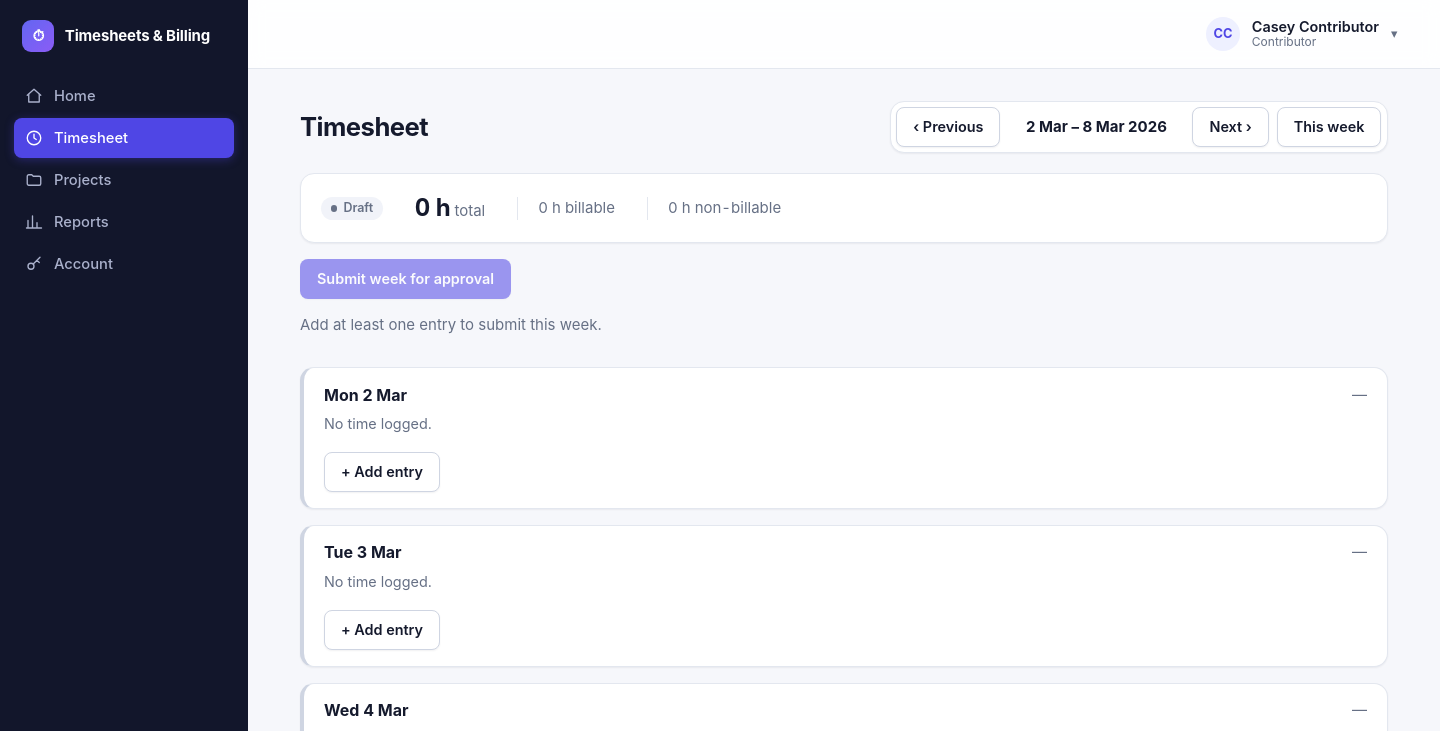
Test: timesheet: adding entries › lets the user mark an entry non-billable
Check: the heading "Timesheet" is shown, box x1=300 y1=108 x2=428 y2=146
Check: the text "total" is shown, box x1=450 y1=201 x2=485 y2=220
Click the button with aria-label "Add entry on Mon 2 Mar" at (382, 472), box x1=324 y1=452 x2=440 y2=492
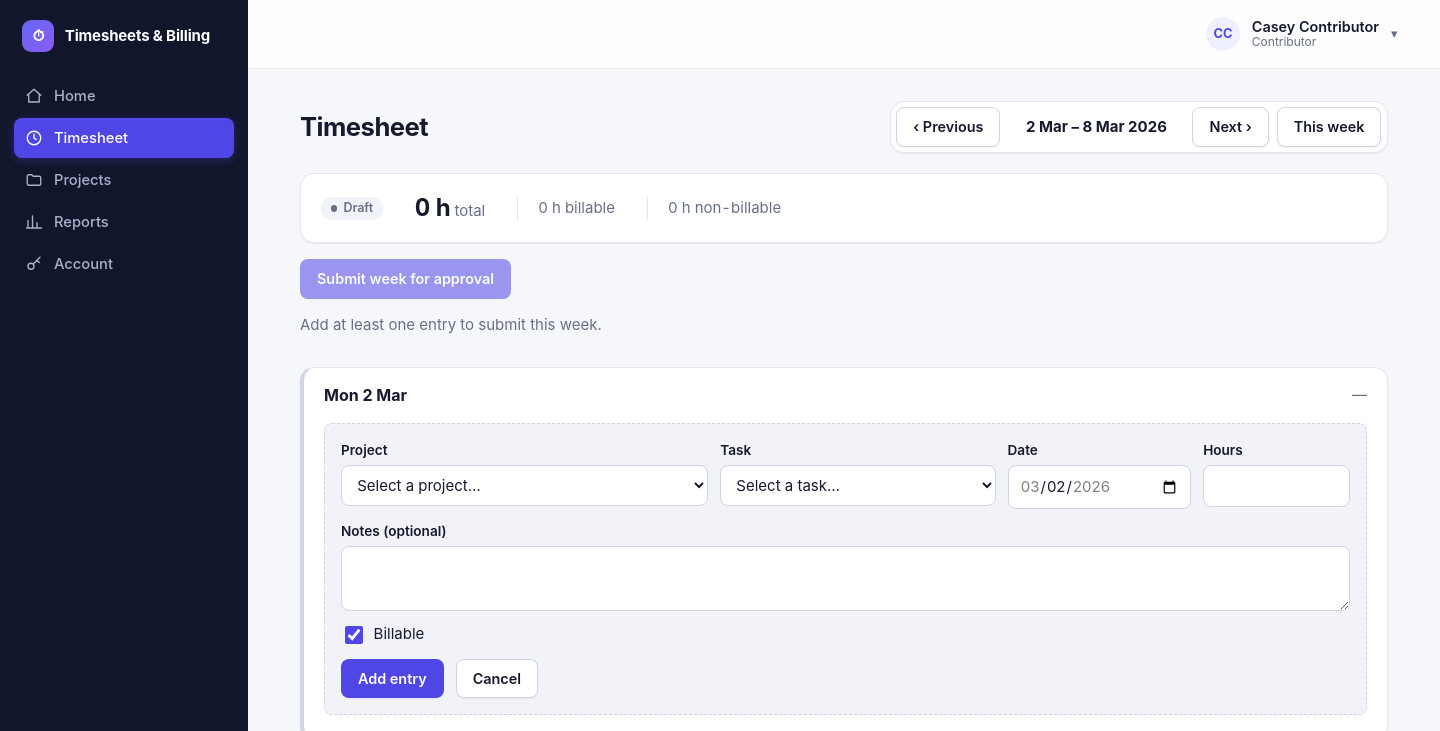
Select "BETA · Beta Portal" in the dropdown labelled "Project" at (525, 485), box x1=341 y1=465 x2=708 y2=506
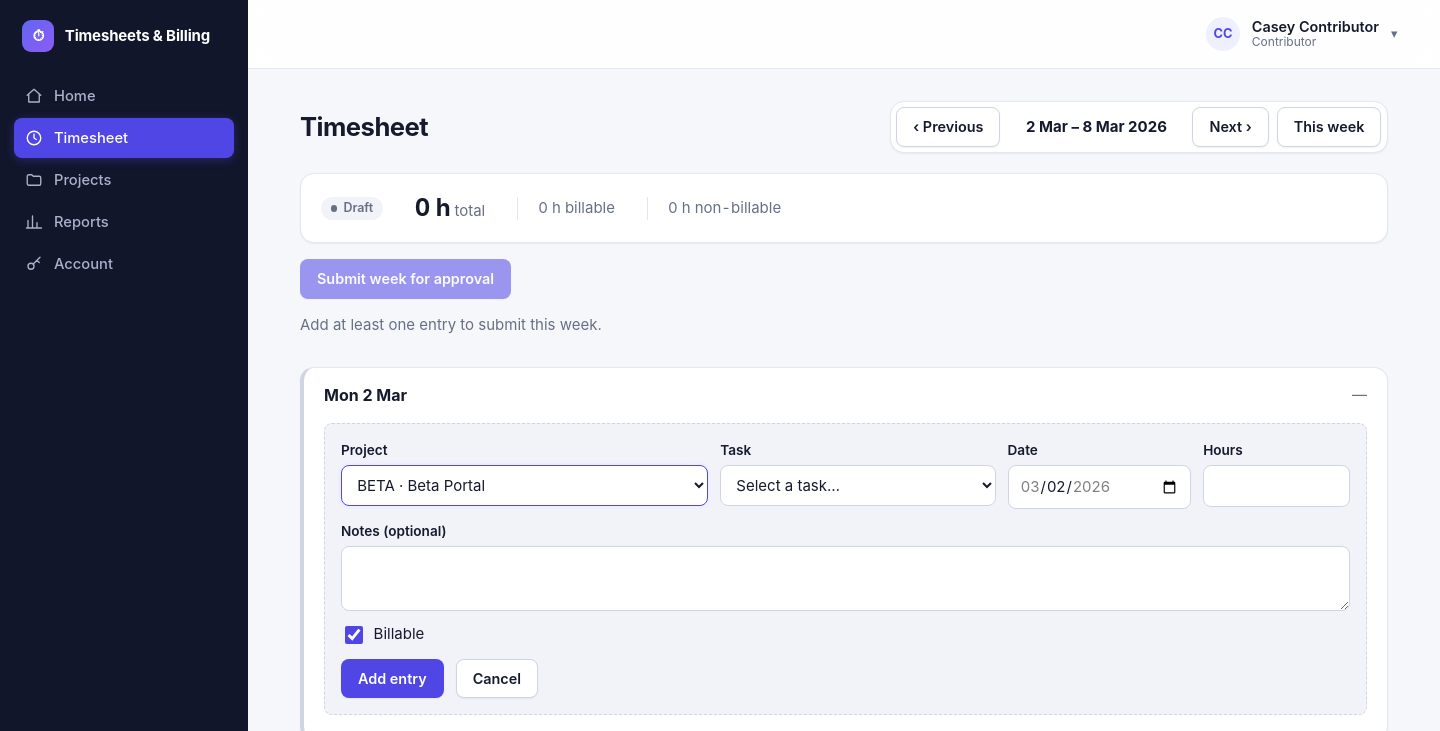
Select "Support" in the dropdown labelled "Task" at (858, 485), box x1=720 y1=465 x2=996 y2=506
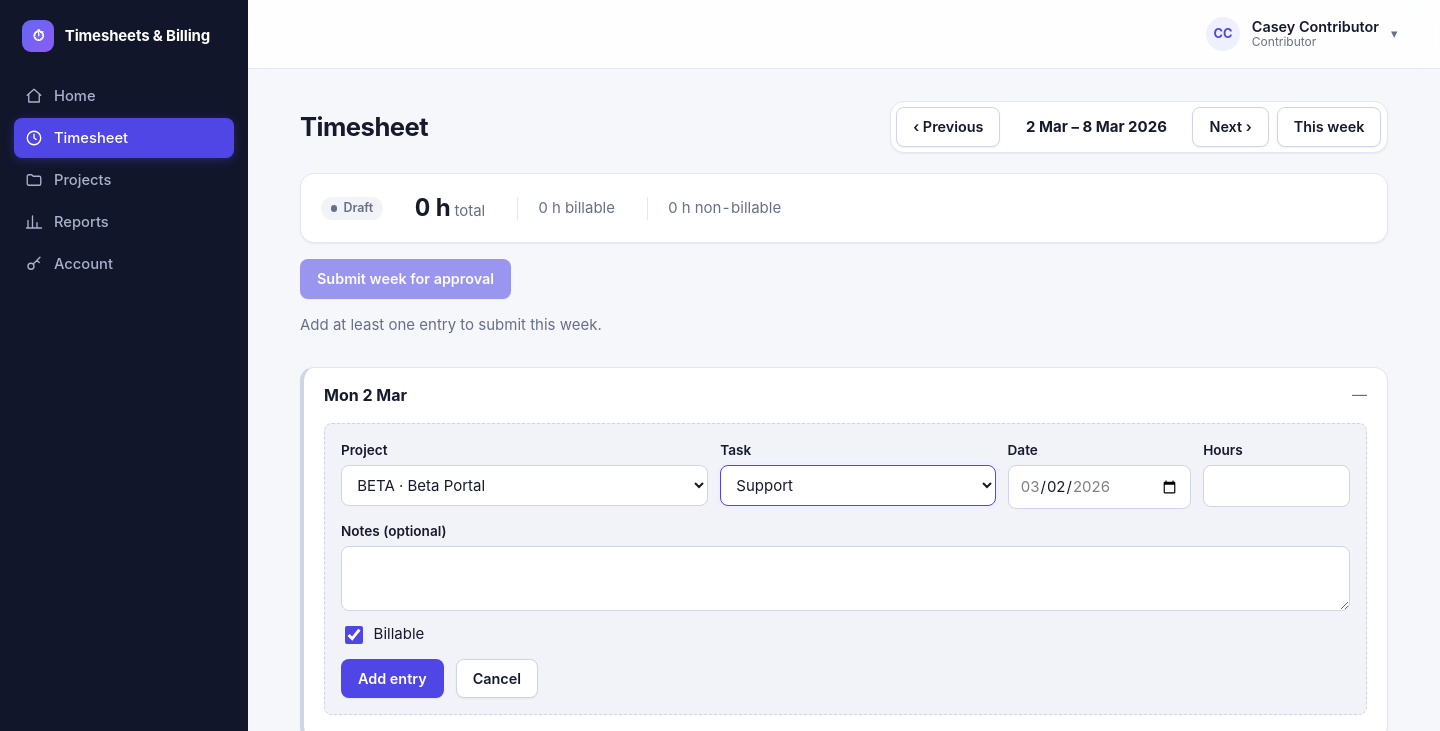
Check: the date field labelled "Date" holds "2026-03-02", box x1=1008 y1=465 x2=1191 y2=509
Type "2" into the number field labelled "Hours" at (1277, 486), box x1=1203 y1=465 x2=1350 y2=507
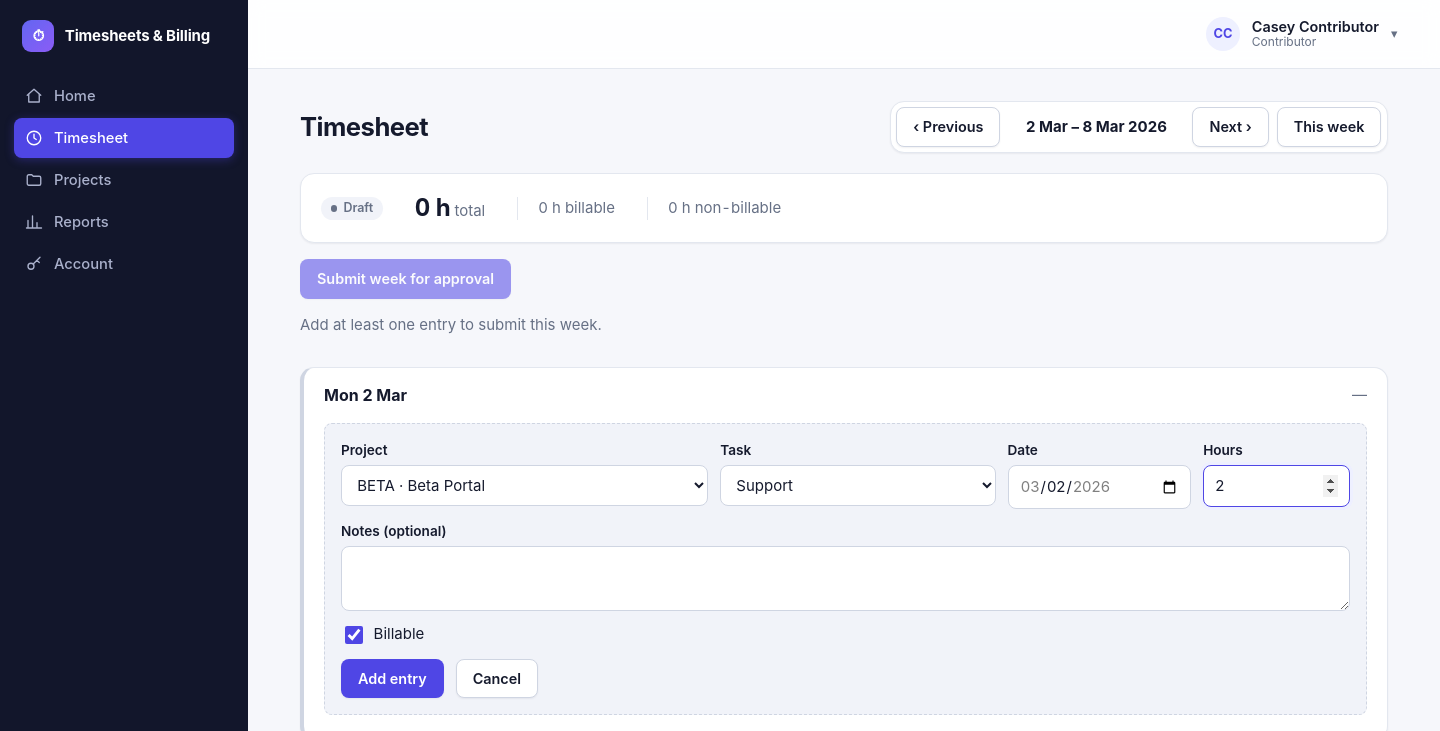
Click the checkbox labelled "Billable" at (354, 635), box x1=345 y1=626 x2=363 y2=644
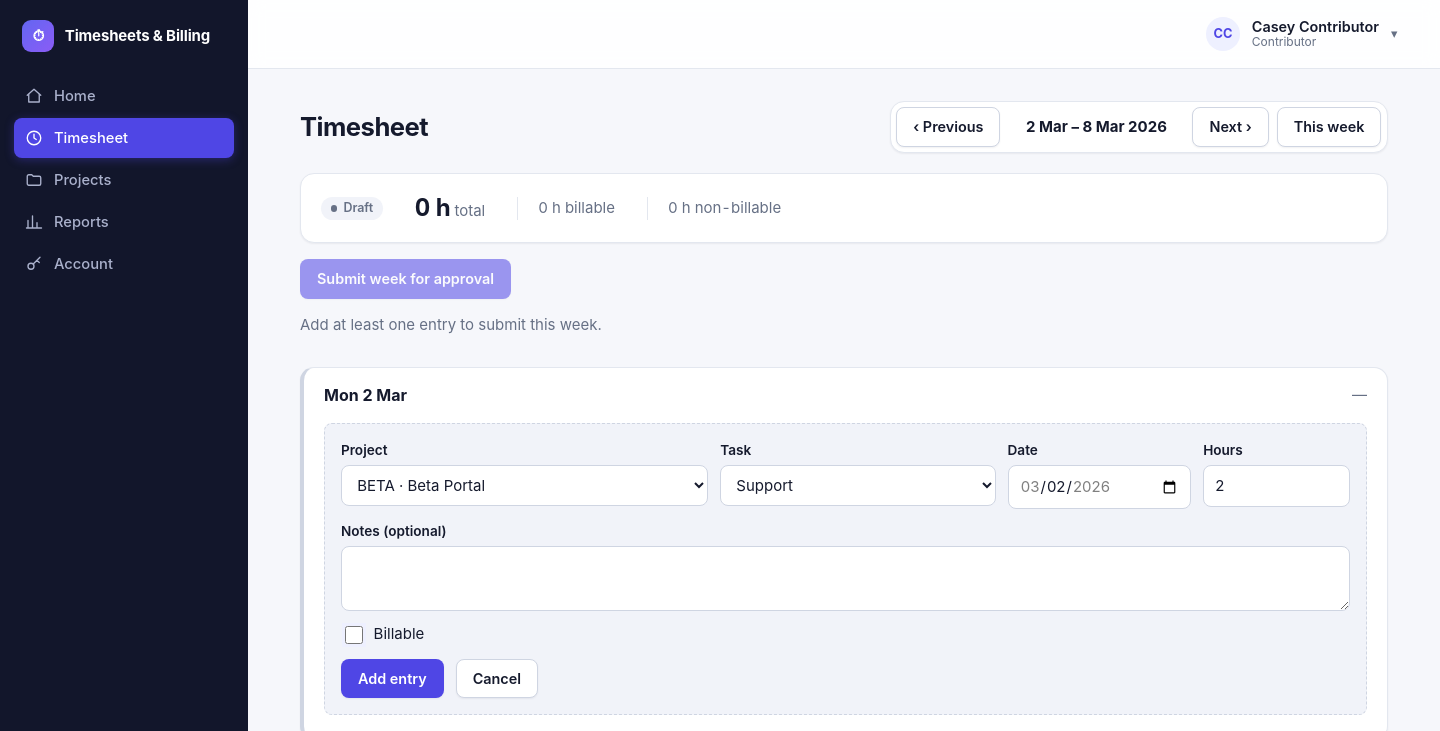
Click the button "Add entry" at (392, 678), box x1=341 y1=658 x2=444 y2=698
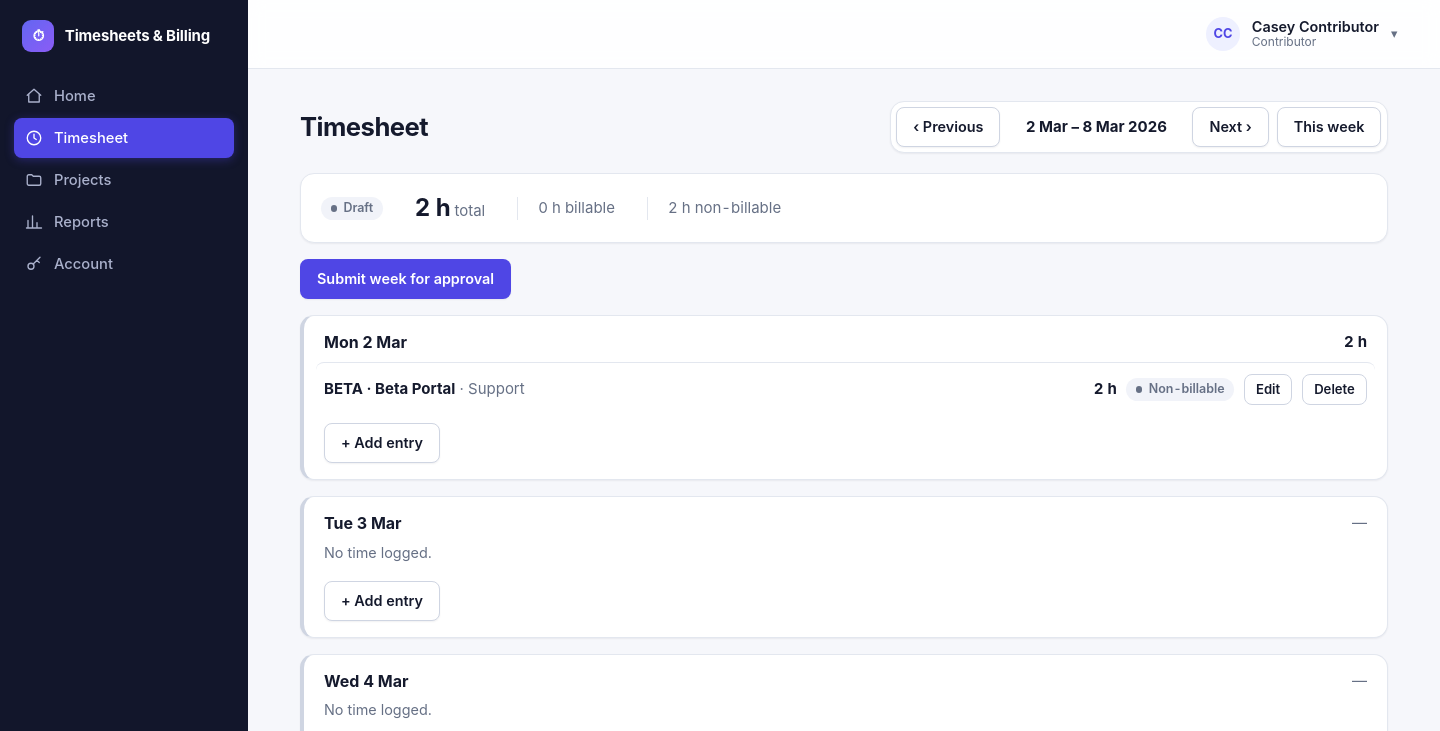
Check: the text "Non-billable" is shown, box x1=1126 y1=378 x2=1234 y2=401
